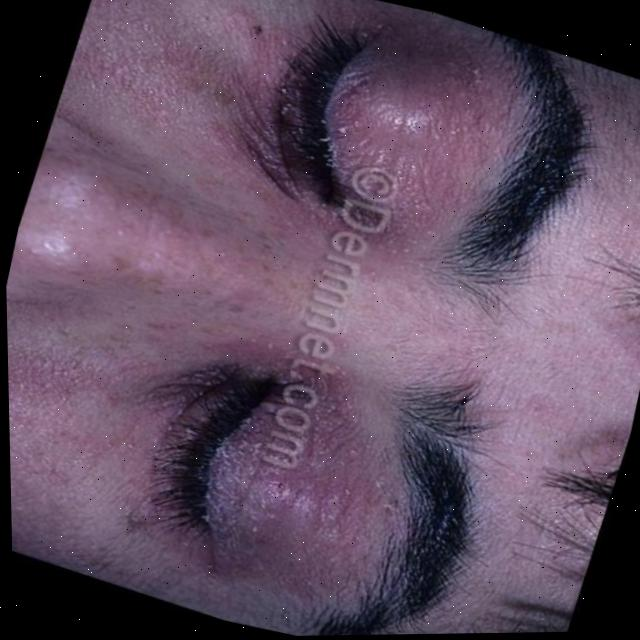Eczema: (222, 0, 487, 258), (148, 351, 389, 591)
